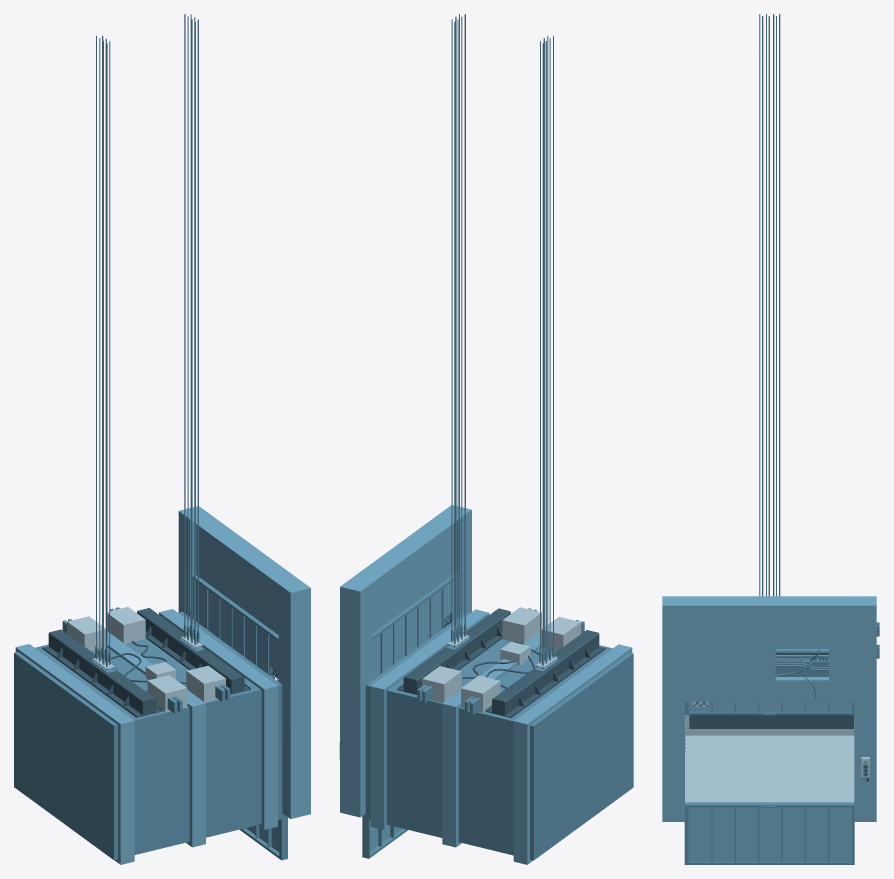
Rendered from Elevator_1.fbx.
3 renders of one model, left to right at view 1: azimuth 30°, elevation 25°; view 2: azimuth 150°, elevation 25°; view 3: azimuth 270°, elevation 25°, orthographic. The views are drawn at different scales.
Parts seen in each view (by area): view 1: Elevator; view 2: Elevator; view 3: Elevator.
Boxes of the visible parts, x1,y1,x2,y2 form: Elevator: [14, 14, 310, 864]; Elevator: [339, 14, 633, 864]; Elevator: [662, 14, 879, 864].
Bounding box in the file's own units: 457 × 1836 × 460.
